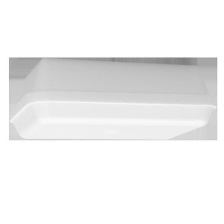foam_box: (8, 57, 217, 140)
